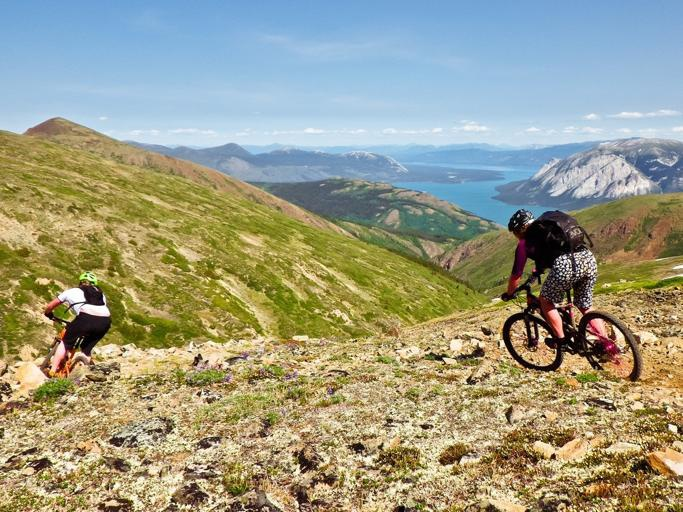non-vehicle: (498, 269, 646, 383), (41, 313, 92, 379)
